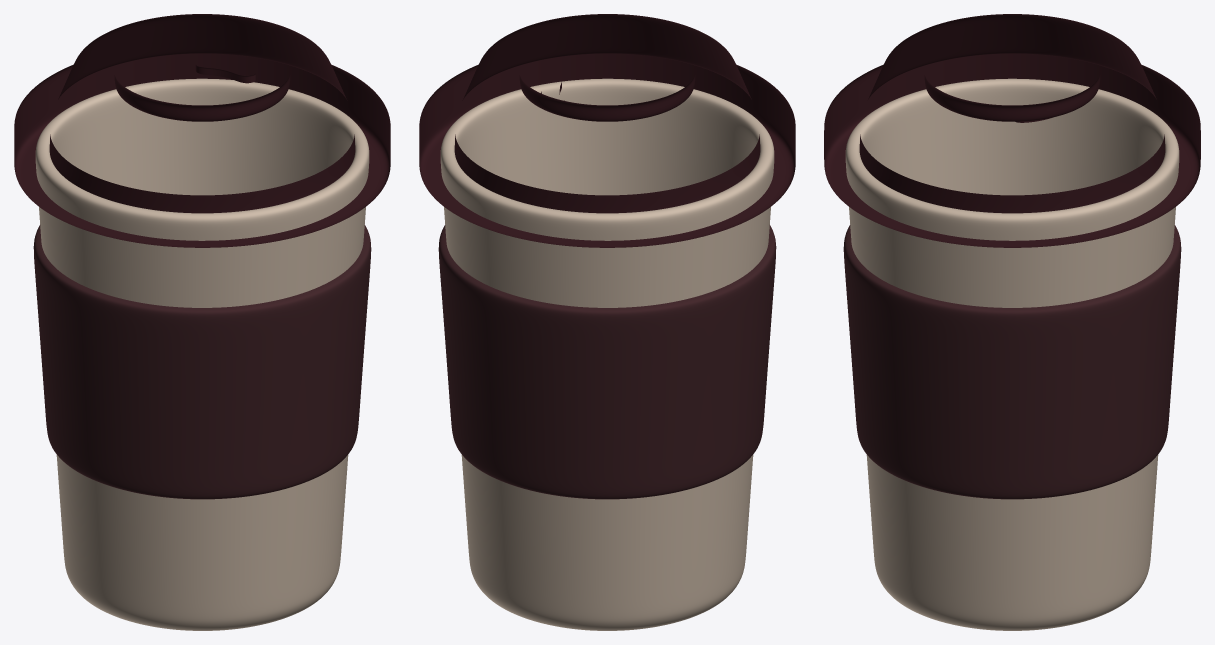
Rendered from coffee.fbx.
3 views of the same model, side by side, from view 1: azimuth 30°, elevation 25°; view 2: azimuth 150°, elevation 25°; view 3: azimuth 270°, elevation 25° (orthographic).
Parts seen in each view (by area): view 1: takeaway; view 2: takeaway; view 3: takeaway.
Part boxes in pixels (bbox=[...]): takeaway: bbox=[14, 14, 390, 630]; takeaway: bbox=[419, 14, 795, 630]; takeaway: bbox=[824, 14, 1200, 630].
Size of the model in its own units: 128 by 194 by 128.
